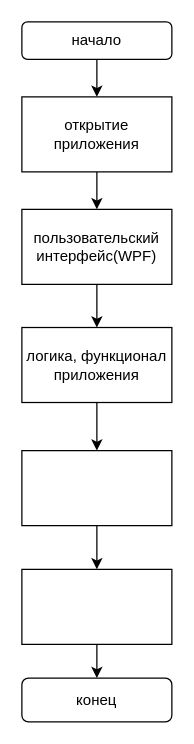
Image size: 194x744. Some labels were removed from this diagram. The shapes that lost their labels are listed below. From the top down, each one's centre as x and y in pixels, then its label:
the point at 96,487: модели и доступ к данным
the point at 96,606: база данных PosgreSQL
